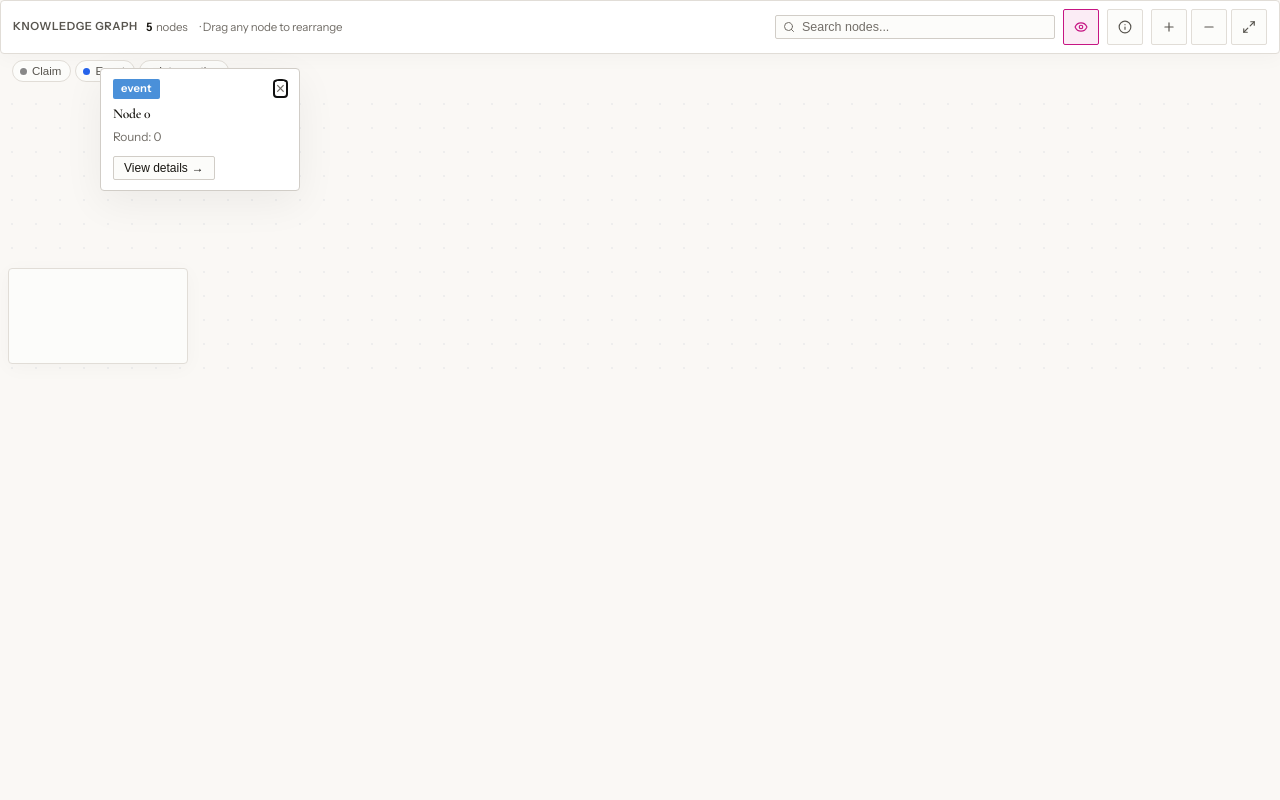
Scenario: KGGraphBoard › NodeQuickCard integration › clicking "View details" on NodeQuickCard opens NodeDetailPanel and closes quickCard
Expected: the dialog with test id "node-quick-card" is shown, x1=100 y1=68 x2=300 y2=191
Click the button "View details →".
click(164, 168)  # box x1=113 y1=156 x2=215 y2=180
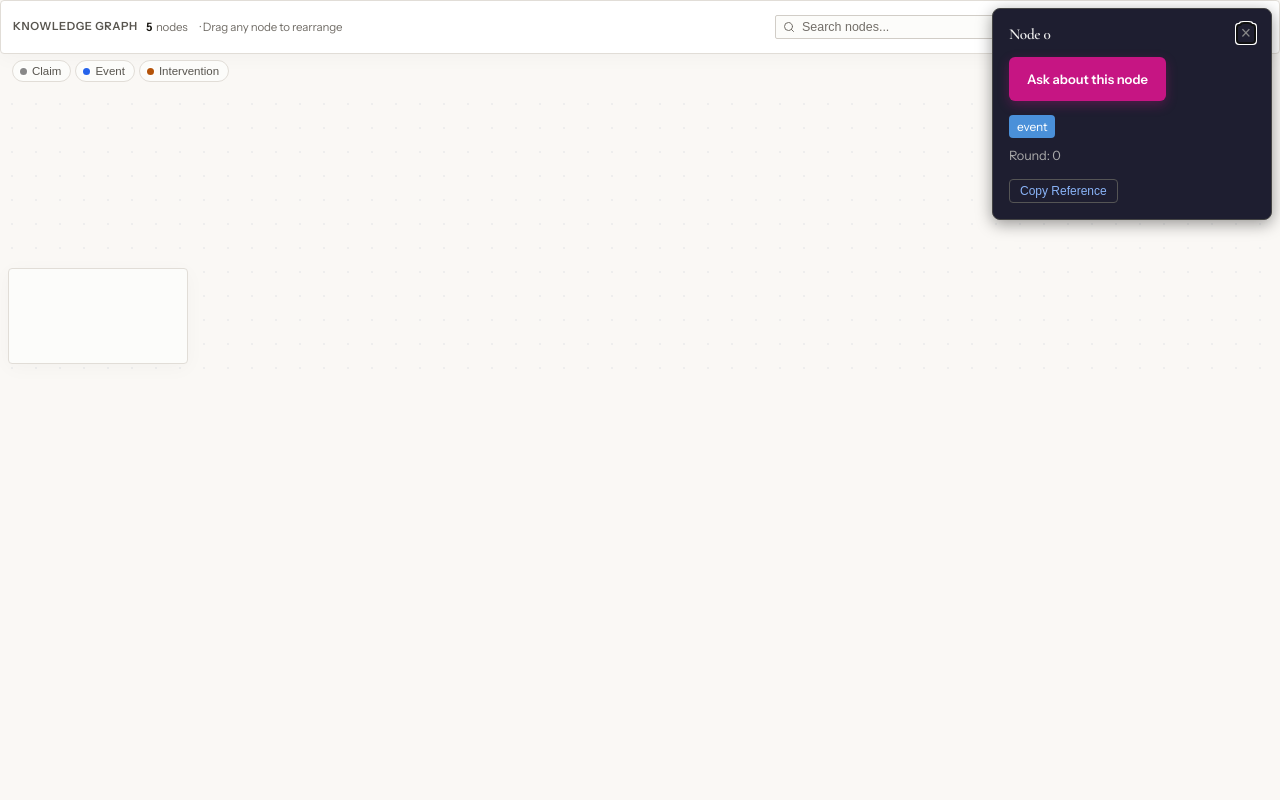
Now the dialog with test id "node-quick-card" is gone
Now the dialog with test id "node-detail-panel" is shown, box x1=992 y1=8 x2=1272 y2=220
